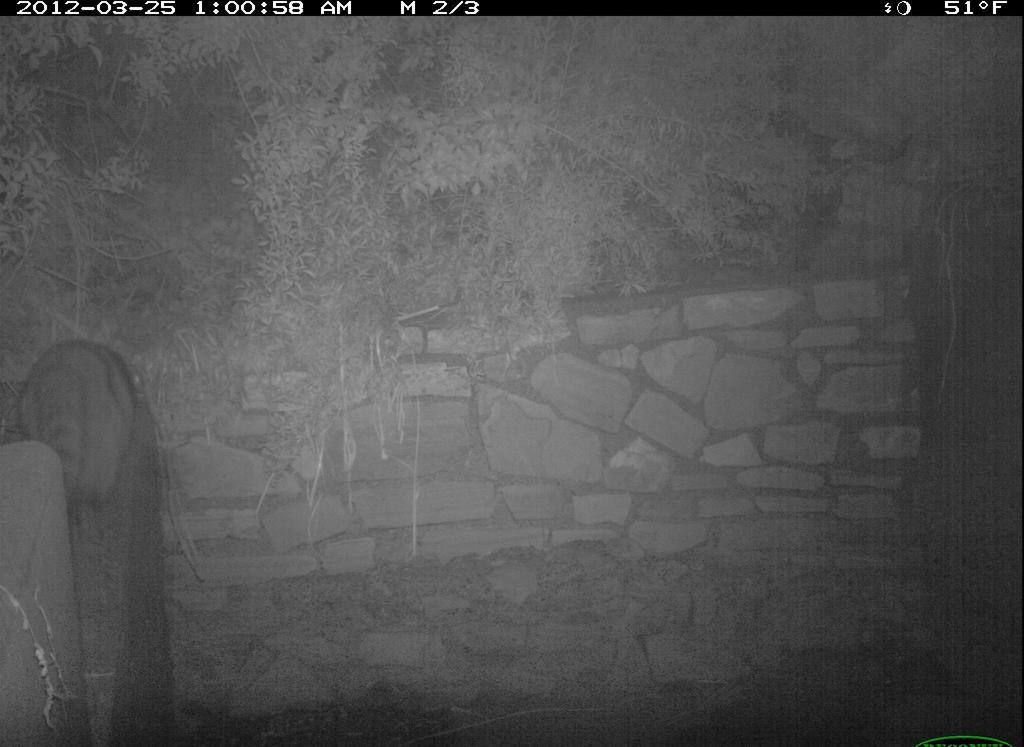raccoon: (6, 327, 157, 520)
